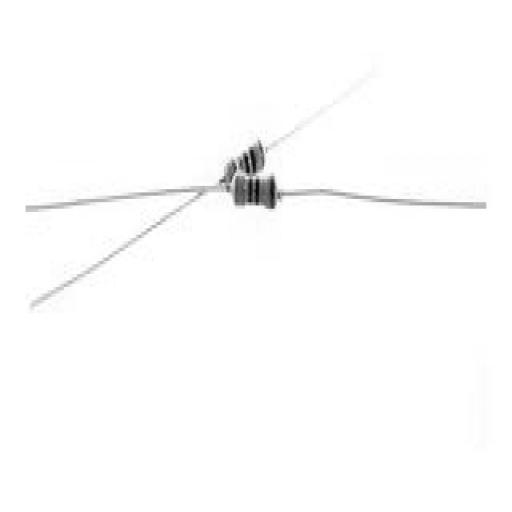RESISTOR: (212, 170, 305, 254), (210, 117, 279, 203)
